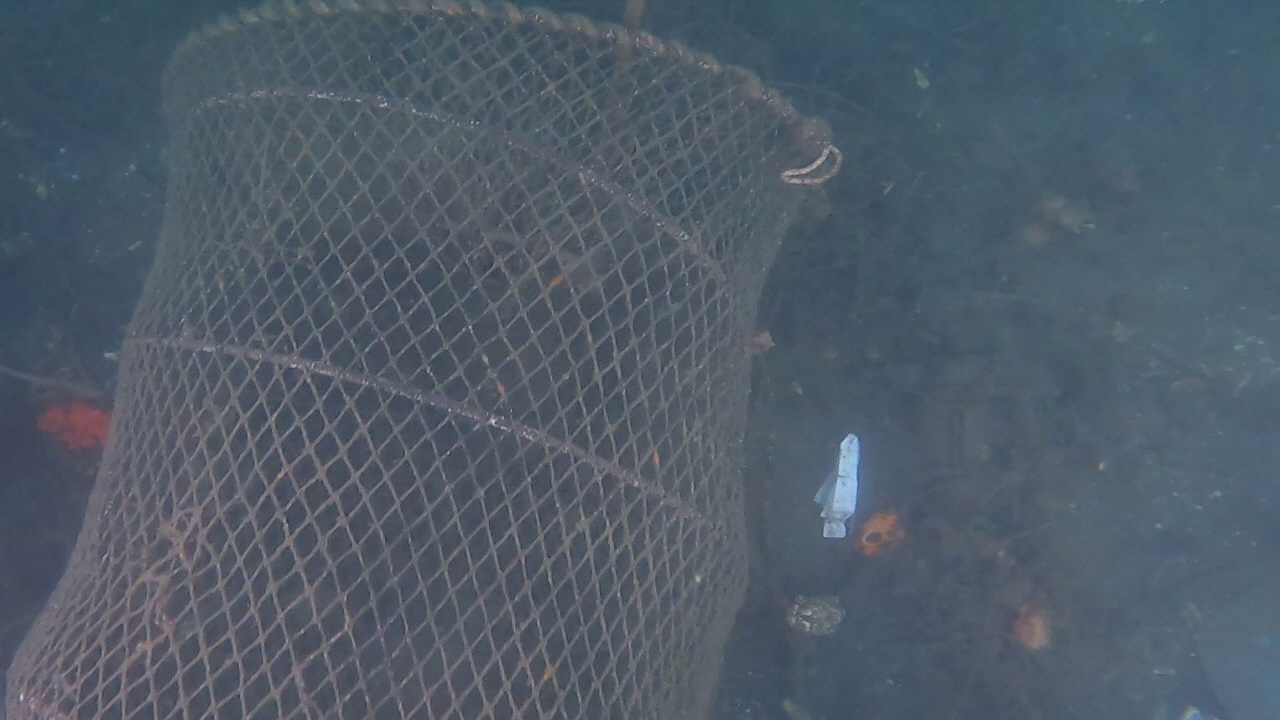spring fish trap: (0, 0, 836, 720)
